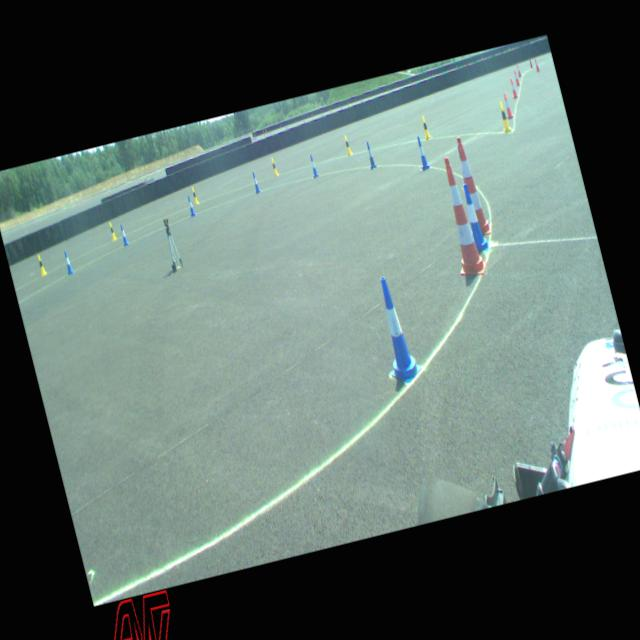blue_cone: (368, 272, 423, 386), (460, 182, 490, 252), (414, 135, 430, 170), (364, 140, 376, 168), (62, 250, 74, 274), (118, 223, 130, 246), (308, 154, 319, 178), (186, 195, 196, 216), (251, 172, 260, 192)
large_orange_cone: (432, 154, 488, 278), (454, 136, 492, 236)
orange_cone: (501, 92, 513, 119), (508, 78, 518, 98), (512, 70, 520, 86), (533, 57, 540, 71), (516, 63, 522, 76)
yellow_cone: (496, 101, 512, 133), (419, 115, 431, 140), (36, 253, 46, 274), (342, 134, 352, 154), (108, 220, 117, 240), (270, 157, 278, 176), (190, 186, 198, 204)
